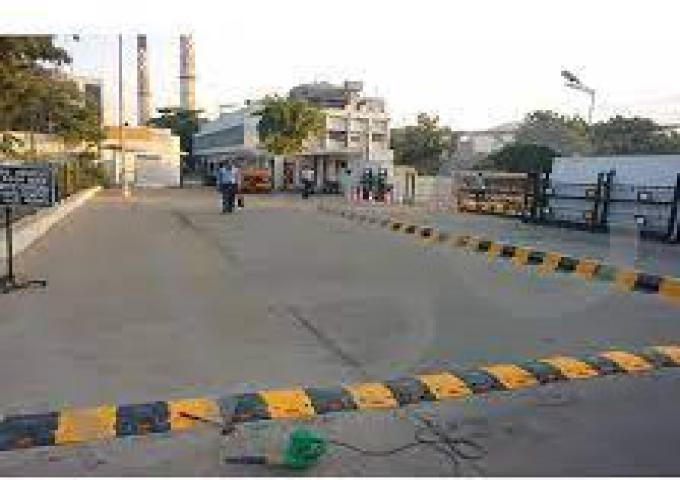speedbreaker: (3, 336, 677, 443)
